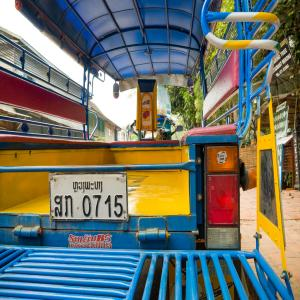Vehicle-registration-plate: (51, 173, 129, 221)
